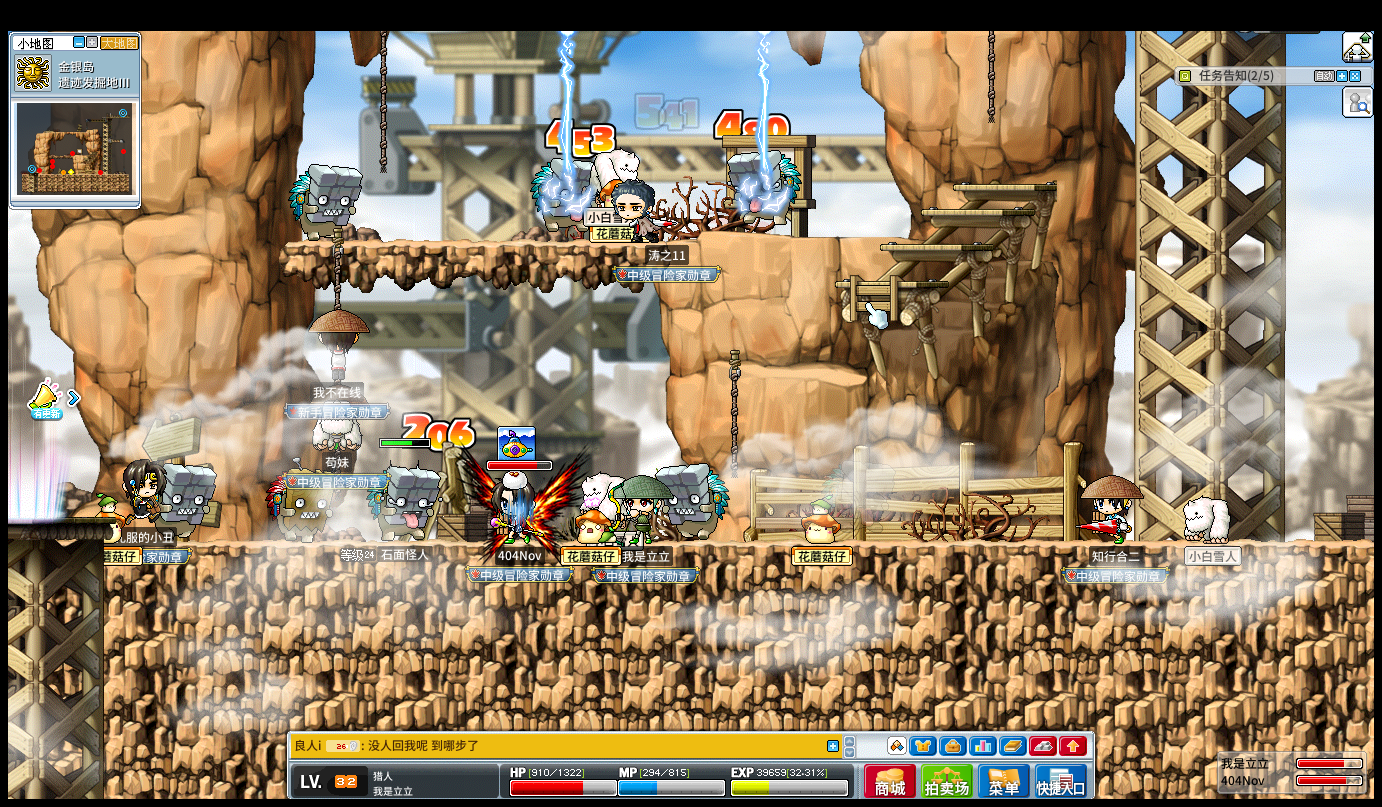floor: (102, 538, 1375, 550), (279, 240, 665, 251), (667, 231, 920, 243), (748, 363, 868, 387), (921, 207, 1035, 217), (834, 279, 951, 288), (953, 182, 1058, 192), (879, 243, 995, 251), (9, 515, 107, 524)
monster: (725, 150, 802, 226), (266, 457, 334, 543), (288, 165, 363, 241), (366, 465, 440, 541), (529, 159, 591, 233), (674, 464, 731, 541), (164, 464, 215, 540)
rope: (728, 349, 739, 478), (379, 30, 388, 173), (987, 31, 996, 125)
